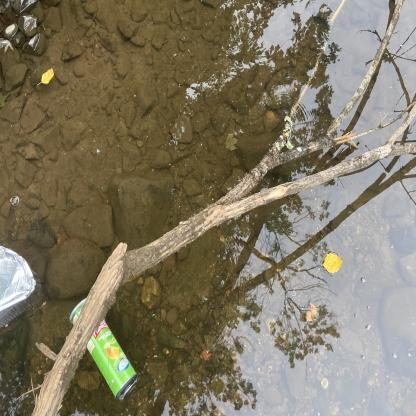trash: (66, 289, 141, 402), (0, 235, 50, 336)
